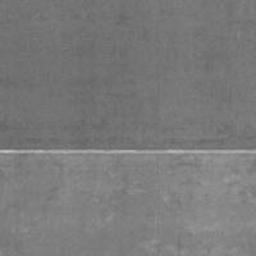Welding line: (0, 147, 256, 156)
